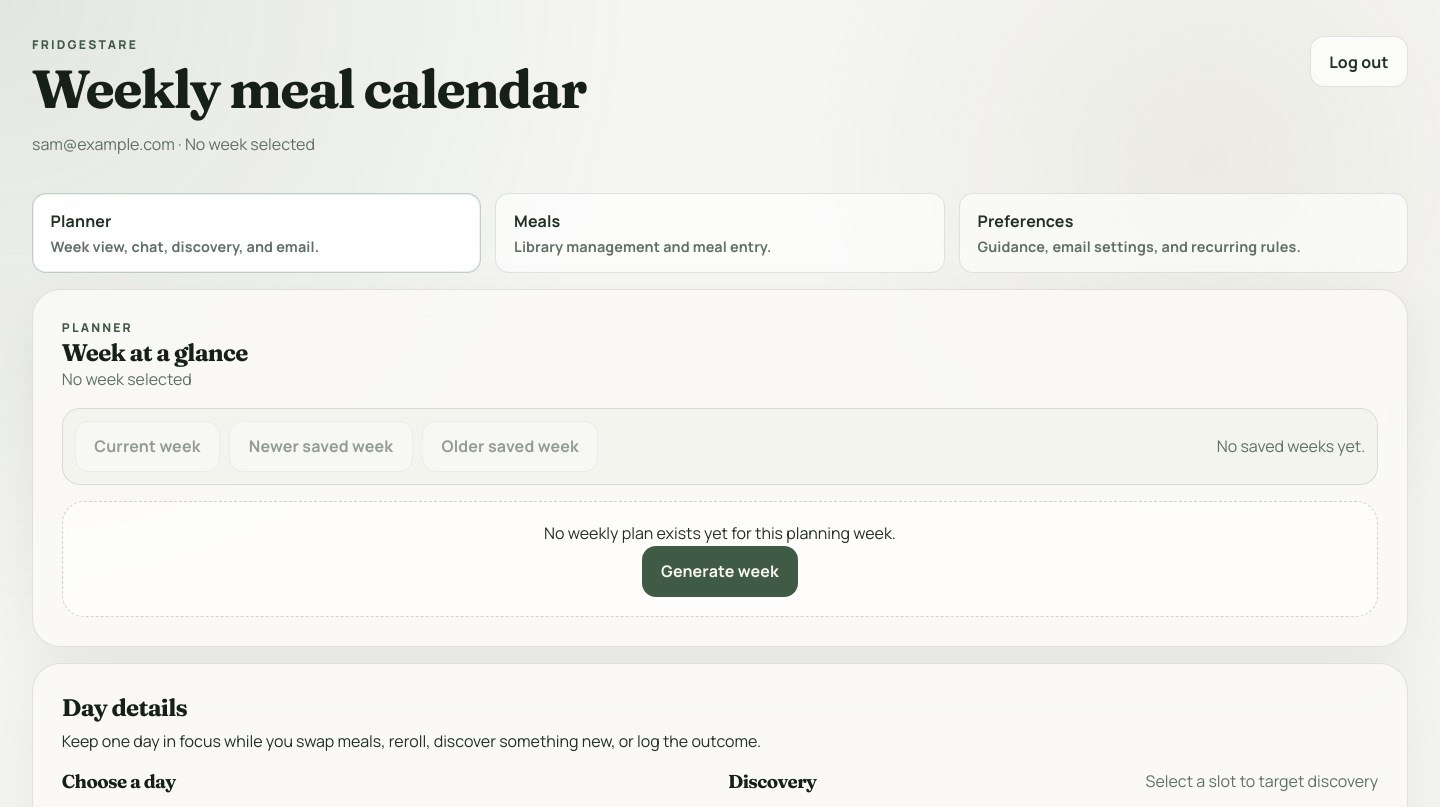
Test: App › keeps an account timezone that is not one of the presets selectable
Click the tab "Preferences Guidance, email settings, and recurring rules.": (1025, 221) [959,193,1408,273]
(page scrolled)
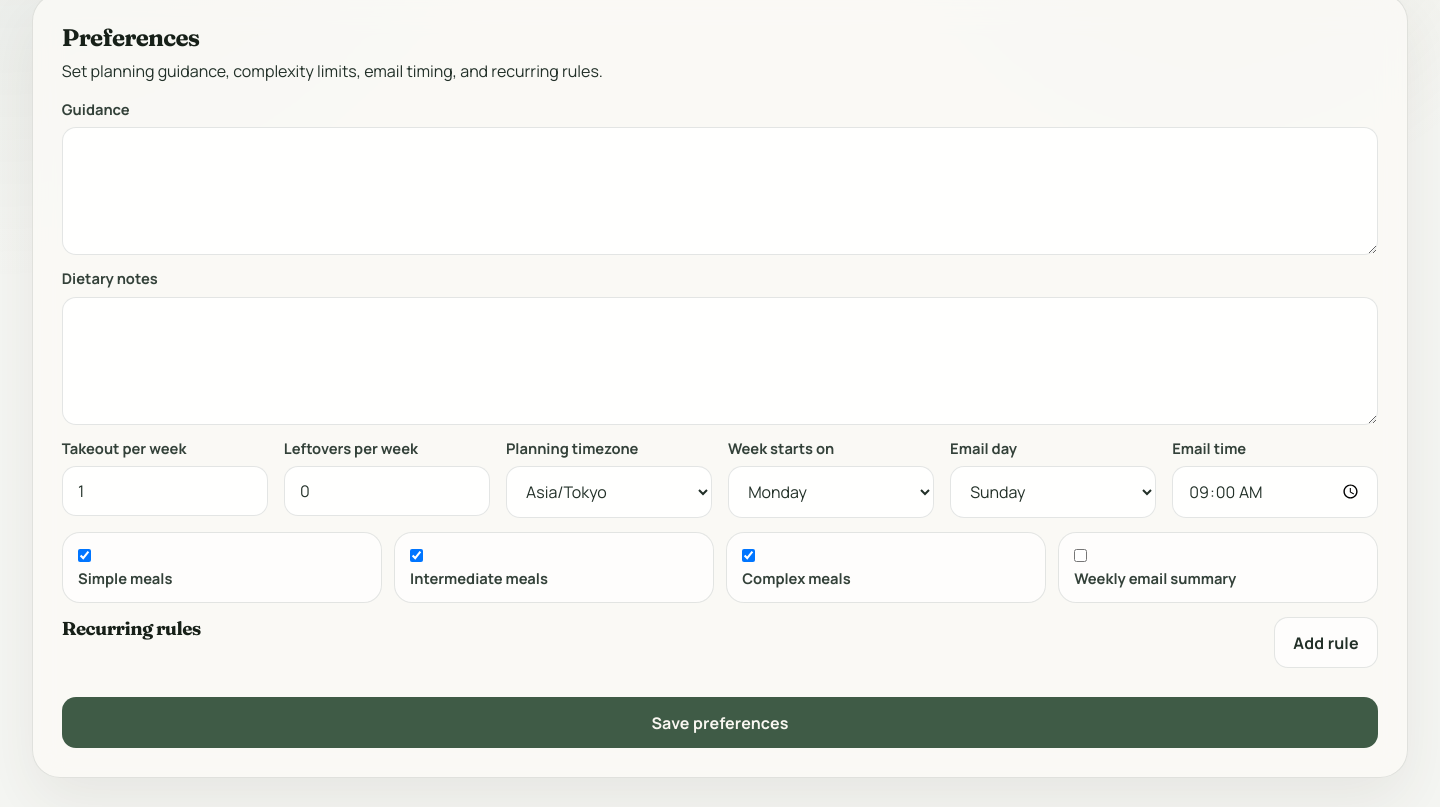
Now the dropdown labelled "Planning timezone" shows "Asia/Tokyo", box [506,466,712,518]
